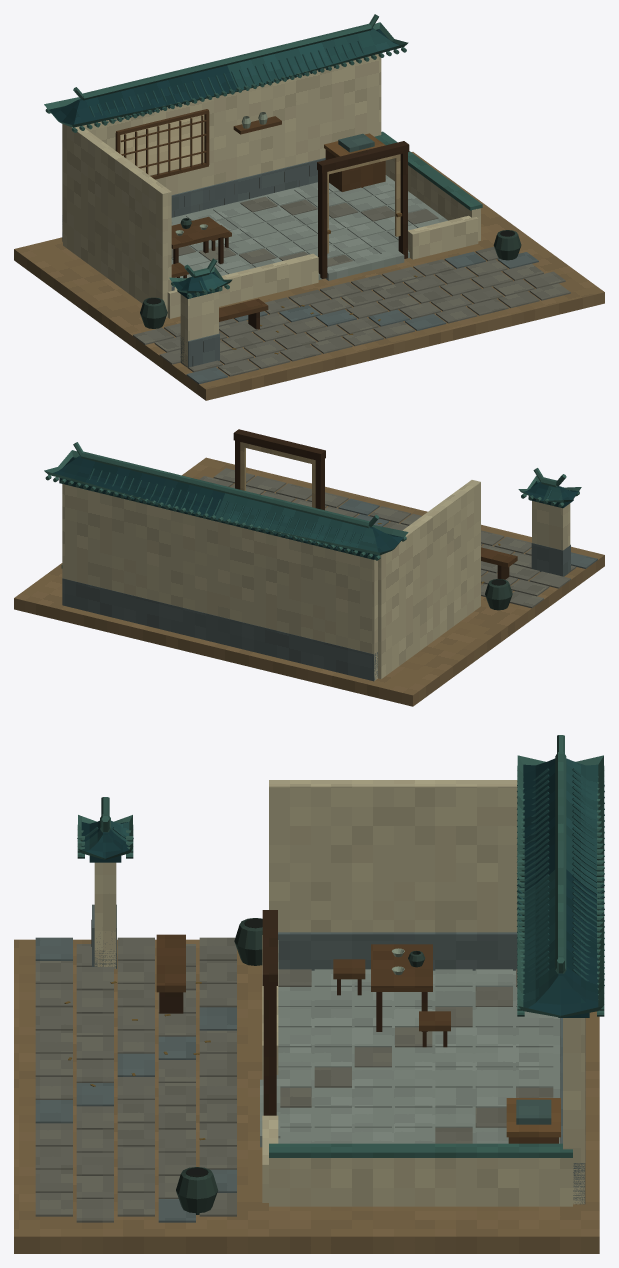
The model's file is zhou-wife-home.glb.
The picture shows the model from 3 angles, top to bottom: view 1: azimuth 30°, elevation 25°; view 2: azimuth 150°, elevation 25°; view 3: azimuth 270°, elevation 25°; orthographic projection. The views are drawn at different scales.
Visible parts, largest first — view 1: Ground, Boundary_wall, Left_wall, Back_eave, Wall_stone_dado, Front_cutaway, Window_paper, Tile_ridge, Front_cutaway.001, Boundary_wall.001, House_floor, Right_cutaway (+13 smaller); view 2: Boundary_wall, Ground, Left_wall, Wall_stone_dado, Back_eave, Tile_ridge, Boundary_wall.001, Door_lintel, Wall_stone_dado.001, Small_entry_eave, Courtyard_crock, Wall_cap (+11 smaller); view 3: Ground, Left_wall, Back_eave, Right_cutaway, Left_dado, Right_cutaway_cap, House_floor, Boundary_wall, Tea_table, Tile_ridge, Boundary_wall.001, Door_jamb.001 (+103 smaller).
Boxes of the visible parts, <box> form: Ground: <box>14,152,604,400</box>; Boundary_wall: <box>62,54,381,241</box>; Left_wall: <box>63,124,171,317</box>; Back_eave: <box>44,22,408,127</box>; Wall_stone_dado: <box>62,158,325,240</box>; Front_cutaway: <box>167,253,318,318</box>; Window_paper: <box>120,114,204,175</box>; Tile_ridge: <box>82,23,371,100</box>; Front_cutaway.001: <box>408,215,478,259</box>; Boundary_wall.001: <box>180,291,218,367</box>; House_floor: <box>171,175,447,279</box>; Right_cutaway: <box>385,158,480,241</box>; Boundary_wall: <box>62,484,377,680</box>; Ground: <box>14,457,604,706</box>; Left_wall: <box>378,480,480,678</box>; Wall_stone_dado: <box>62,578,377,681</box>; Back_eave: <box>44,450,408,555</box>; Tile_ridge: <box>80,451,369,528</box>; Boundary_wall.001: <box>532,501,570,550</box>; Door_lintel: <box>233,429,325,461</box>; Wall_stone_dado.001: <box>531,543,570,576</box>; Small_entry_eave: <box>518,476,581,502</box>; Courtyard_crock: <box>485,579,512,610</box>; Wall_cap: <box>59,478,377,559</box>; Ground: <box>14,939,599,1253</box>; Left_wall: <box>269,780,517,932</box>; Back_eave: <box>517,755,603,1017</box>; Right_cutaway: <box>269,1158,572,1206</box>; Left_dado: <box>278,932,517,970</box>; Right_cutaway_cap: <box>269,1143,572,1157</box>; House_floor: <box>311,970,560,1143</box>; Boundary_wall: <box>563,1018,584,1204</box>; Tea_table: <box>371,944,432,991</box>; Tile_ridge: <box>555,752,566,973</box>; Boundary_wall.001: <box>94,862,116,968</box>; Door_jamb.001: <box>263,986,276,1115</box>.
Size of the model in its own units: 9.6 by 3.91 by 8.07.
Materials: 20 (20 with a texture image).
